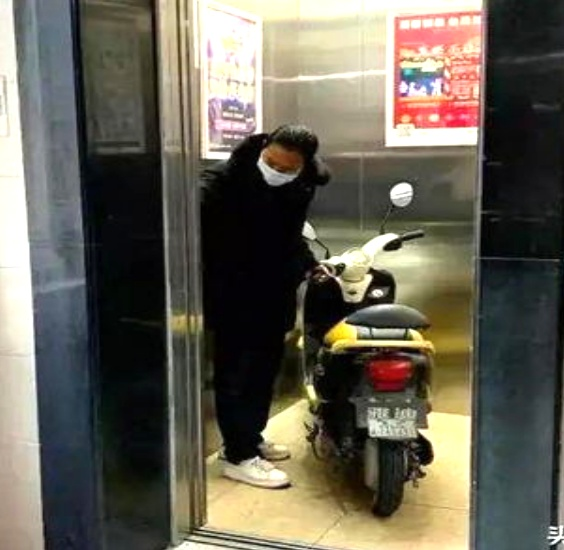ebike: (301, 185, 427, 520)
person: (199, 123, 325, 488)
